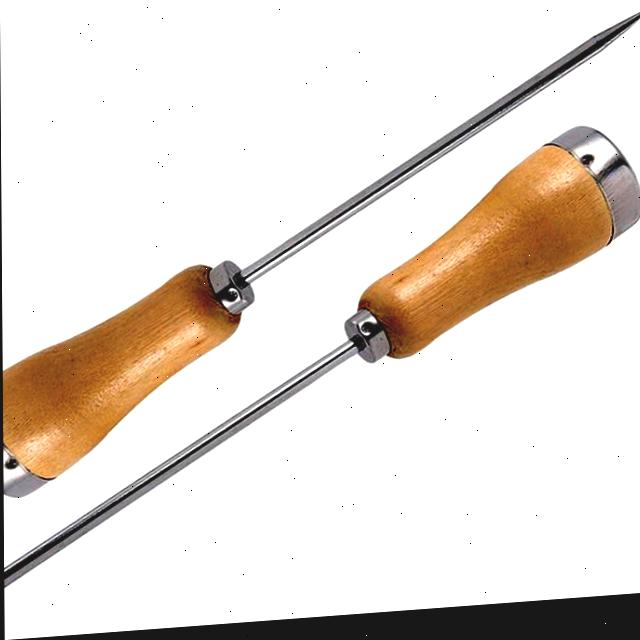ice pick: (0, 19, 640, 502), (1, 130, 640, 612)
